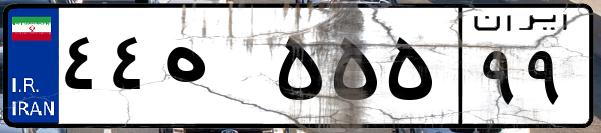4: (57, 26, 110, 100), (110, 28, 158, 98)
5: (270, 28, 330, 110), (385, 28, 445, 110), (330, 28, 385, 110)
9: (475, 38, 525, 113), (525, 38, 570, 115)
ه: (158, 20, 270, 120)
